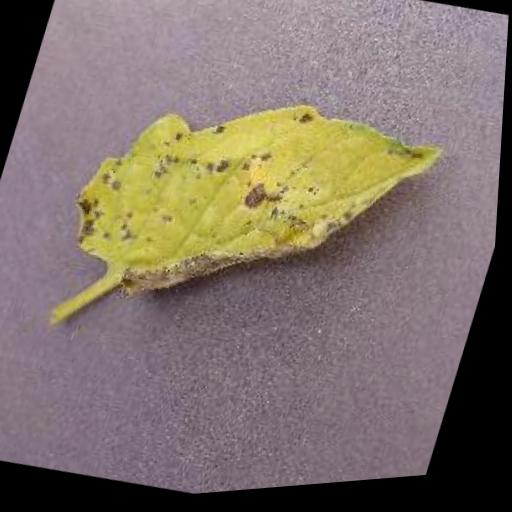Septoria: (52, 52, 455, 363)
